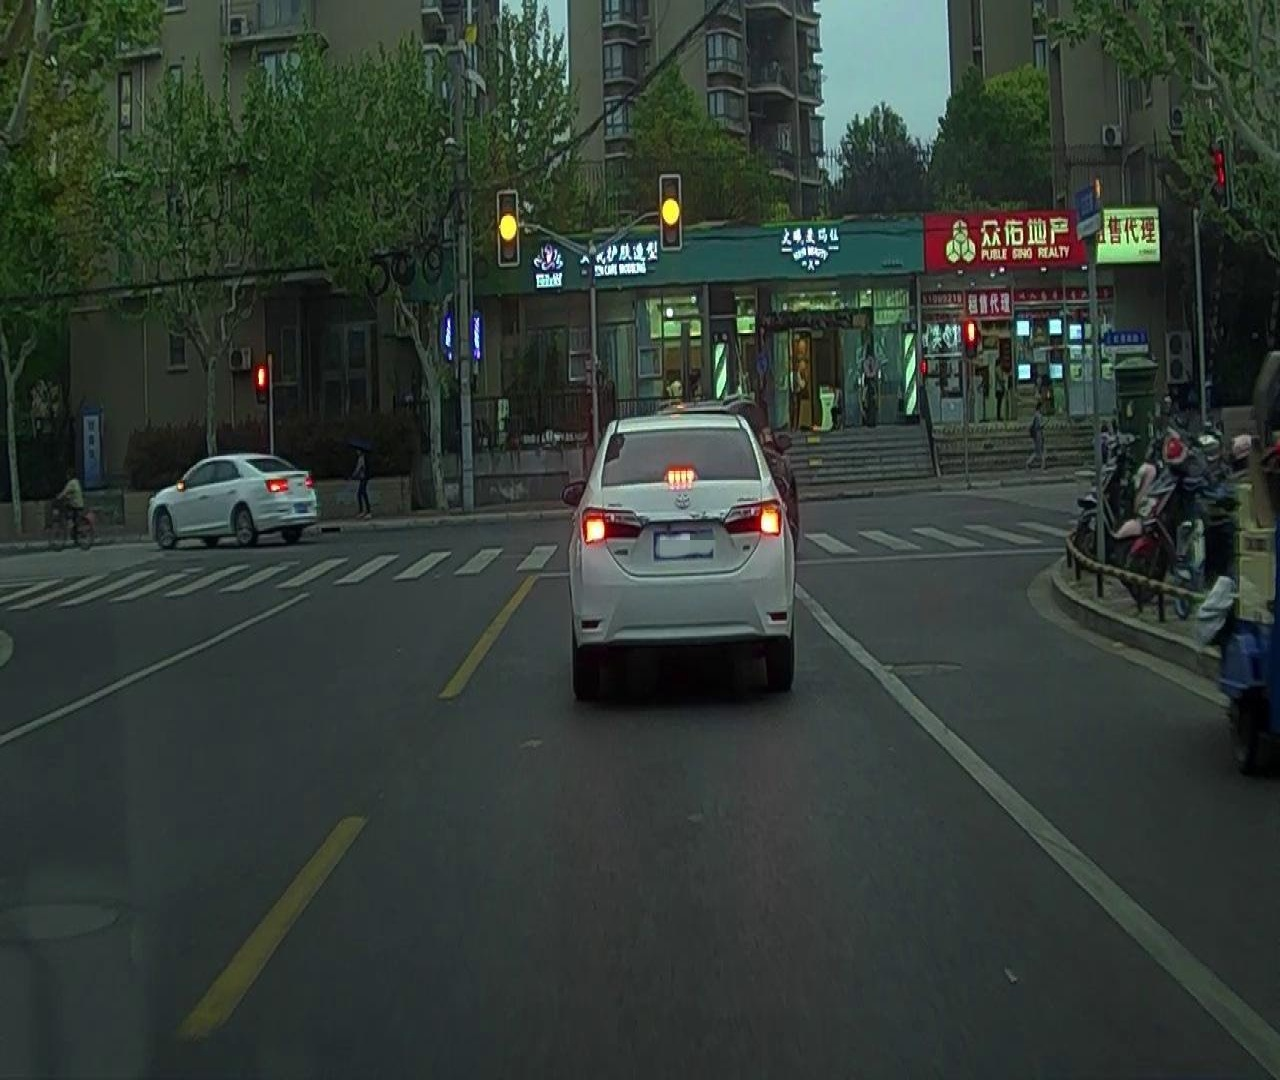yellow: (662, 175, 681, 249), (499, 192, 518, 265)
